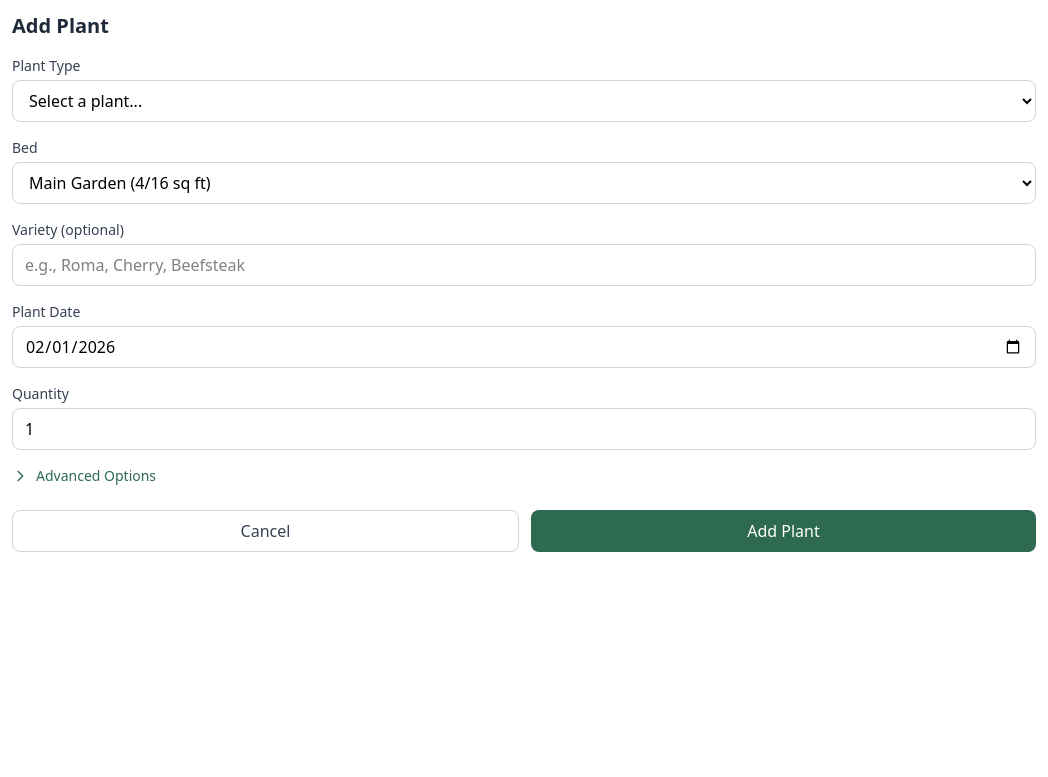
PlantForm › placeholders and defaults › shows effective value text when no override entered
The width and height of the screenshot is (1048, 777).
Select "Tomato" in the dropdown labelled "Plant Type" at (524, 101), box [12, 80, 1036, 122]
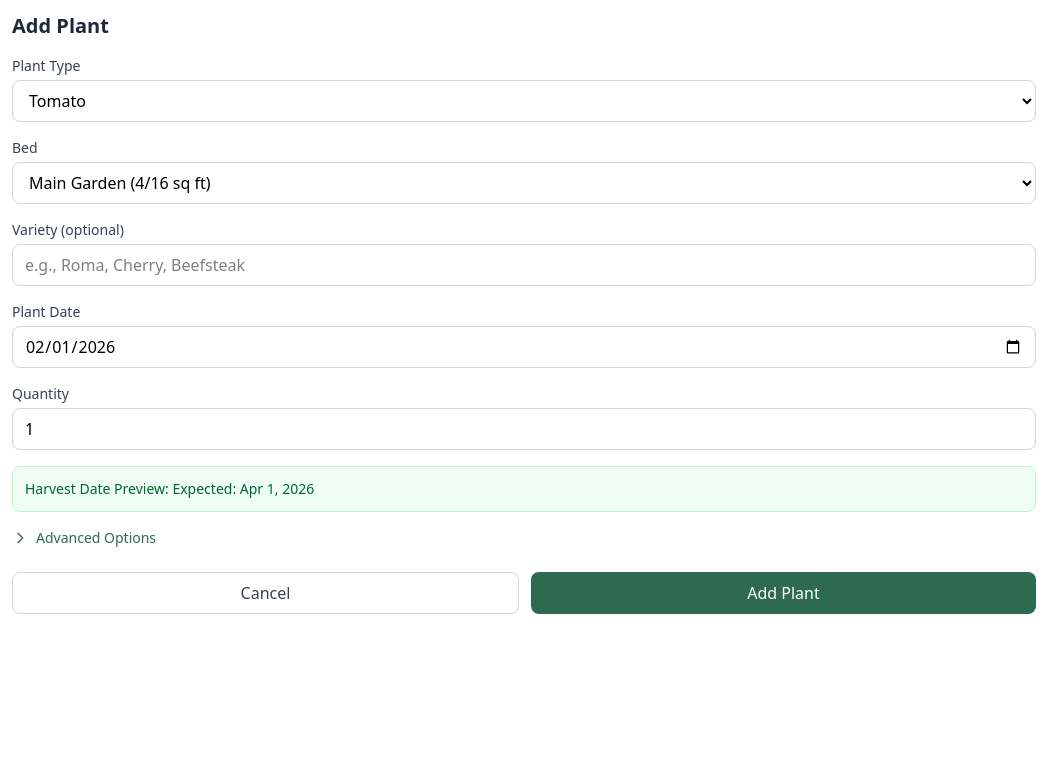
Click the button "Advanced Options" at (84, 538), box [12, 528, 156, 548]
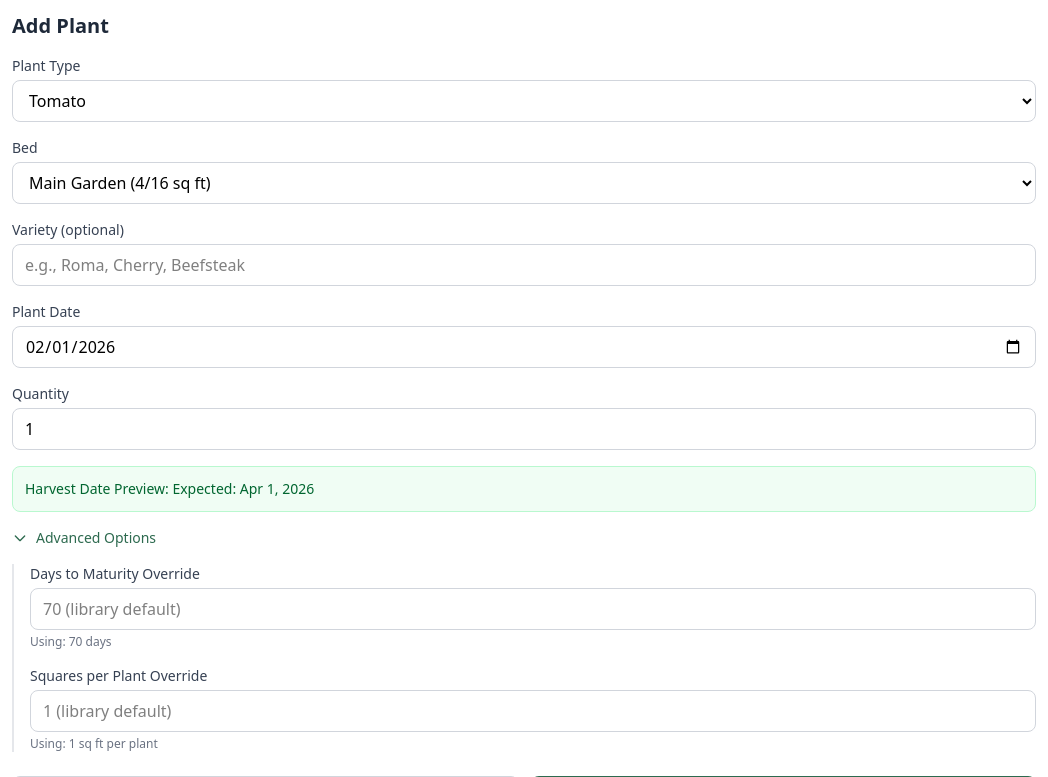
Result: the text "Using: 70 days" is shown at [30, 633, 112, 650]
Result: the text "Using: 1 sq ft per plant" is shown at [30, 735, 158, 752]
